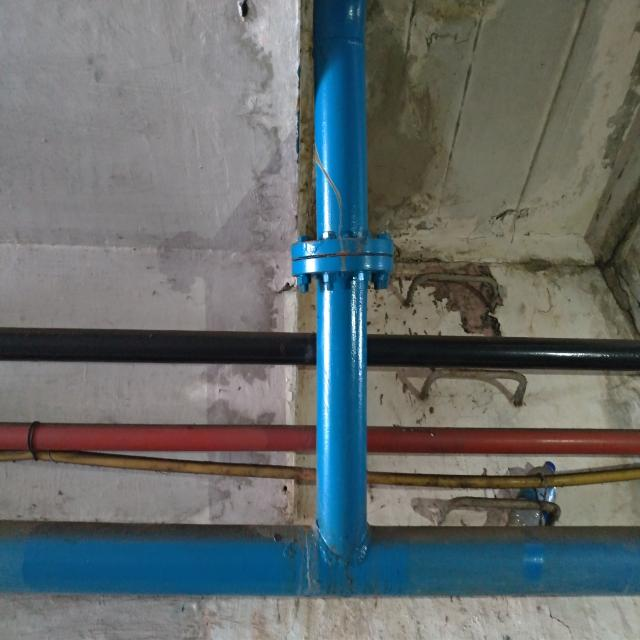gas: (3, 521, 640, 599), (314, 0, 364, 540), (0, 330, 317, 369), (0, 423, 319, 455), (365, 337, 640, 372), (368, 426, 640, 455)
